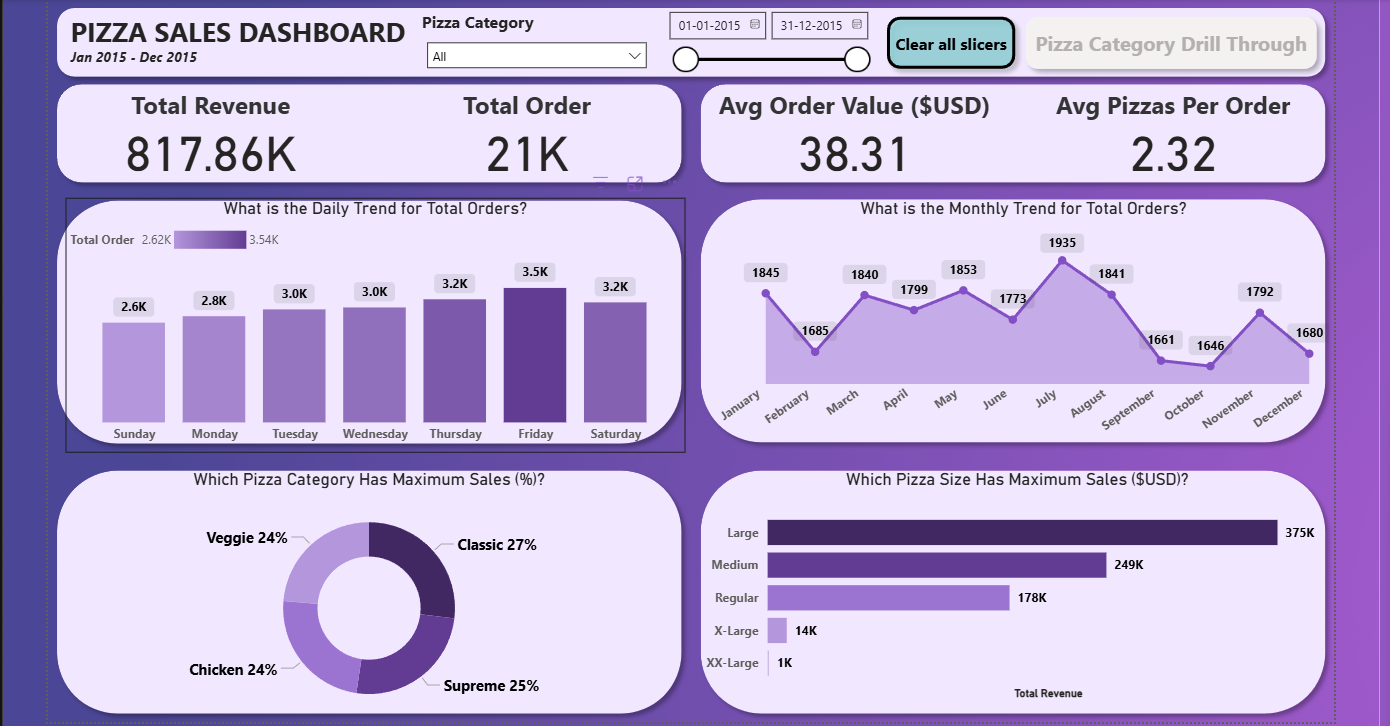

The dashboard page shown, as its layout file describes it:
{"tool":"powerbi","page":{"name":"Pizza_Sales_Dashboard","canvas":[1280,720],"ordinal":0},"visuals":[{"type":"group","id":"g1","title":"Background","box":[0,0,1280,720.3],"z":0},{"type":"shape","box":[0,75.9,639.4,115.7],"z":0,"group":"g1"},{"type":"shape","box":[0,0,1280,86.3],"z":1000,"group":"g1"},{"type":"cardVisual","fields":{"Data":["pizza_sales.Total Revenue"]},"box":[0,72.1,324.7,115.7],"z":1000},{"type":"shape","box":[640.6,75.9,639.4,115.7],"z":2000,"group":"g1"},{"type":"columnChart","title":"What is the Daily Trend for Total Orders?","fields":{"Category":["pizza_sales.Day Name"],"Y":["pizza_sales.Total Order"]},"box":[17.4,197.8,617,253.8],"z":2000},{"type":"shape","box":[0,191.6,639.4,260],"z":3000,"group":"g1"},{"type":"areaChart","title":"What is the Monthly Trend for Total Orders?","fields":{"Category":["pizza_sales.order_date.Variation.Date Hierarchy.Month"],"Y":["pizza_sales.Total Order"]},"box":[661.8,197.8,618.2,252.5],"z":3000},{"type":"shape","box":[640.6,190.3,639.4,260],"z":4000,"group":"g1"},{"type":"donutChart","title":"Which Pizza Category Has Maximum Sales (%)?","fields":{"Category":["pizza_sales.pizza_category"],"Y":["pizza_sales.Total Revenue"]},"box":[0,467.7,639.4,252.5],"z":4000},{"type":"shape","box":[0,460.3,639.4,260],"z":5000,"group":"g1"},{"type":"barChart","title":"Which Pizza Size Has Maximum Sales ($USD)?","fields":{"Category":["pizza_sales.pizza_size"],"Y":["pizza_sales.Total Revenue"]},"box":[649.1,467.9,631.2,234.6],"z":5000},{"type":"textbox","box":[17.4,8.7,368.2,87.1],"z":6000},{"type":"shape","box":[640.6,460.3,639.4,260],"z":6000,"group":"g1"},{"type":"cardVisual","fields":{"Data":["pizza_sales.Total Order"]},"box":[319.7,72.1,314.7,115.7],"z":7000},{"type":"cardVisual","fields":{"Data":["pizza_sales.Avg Order Value"]},"box":[640.6,72.1,324.7,115.7],"z":8000},{"type":"cardVisual","fields":{"Data":["pizza_sales.Avg Pizzas Per Order"]},"box":[960.3,72.1,319.7,115.7],"z":9000},{"type":"slicer","title":"Pizza Category","fields":{"Values":["pizza_sales.pizza_category"]},"box":[367,11.2,238.8,70.9],"z":10000},{"type":"slicer","title":"Date","fields":{"Values":["pizza_sales.order_date"]},"box":[605.8,2.5,220.2,79.6],"z":11000},{"type":"actionButton","title":"Pizza Category Drill Through","box":[964.1,8.7,307.3,69.7],"z":12000},{"type":"actionButton","box":[826,8.7,145.5,69.7],"z":13000}]}

Visuals, with their boxes on the page's 1280x720 design canvas (x1, y1, x2, y2). These are canvas units, not pixel positions in the 1390x726 screenshot, which may show the page scaled, cropped or inside an application window:
"Background" group: region(0, 0, 1280, 720)
shape: region(0, 76, 639, 192)
shape: region(0, 0, 1280, 86)
cardVisual - pizza_sales.Total Revenue: region(0, 72, 325, 188)
shape: region(641, 76, 1280, 192)
"What is the Daily Trend for Total Orders?" columnChart: region(17, 198, 634, 452)
shape: region(0, 192, 639, 452)
"What is the Monthly Trend for Total Orders?" areaChart: region(662, 198, 1280, 450)
shape: region(641, 190, 1280, 450)
"Which Pizza Category Has Maximum Sales (%)?" donutChart: region(0, 468, 639, 720)
shape: region(0, 460, 639, 720)
"Which Pizza Size Has Maximum Sales ($USD)?" barChart: region(649, 468, 1280, 702)
textbox: region(17, 9, 386, 96)
shape: region(641, 460, 1280, 720)
cardVisual - pizza_sales.Total Order: region(320, 72, 634, 188)
cardVisual - pizza_sales.Avg Order Value: region(641, 72, 965, 188)
cardVisual - pizza_sales.Avg Pizzas Per Order: region(960, 72, 1280, 188)
"Pizza Category" slicer: region(367, 11, 606, 82)
"Date" slicer: region(606, 2, 826, 82)
"Pizza Category Drill Through" actionButton: region(964, 9, 1271, 78)
actionButton: region(826, 9, 972, 78)
